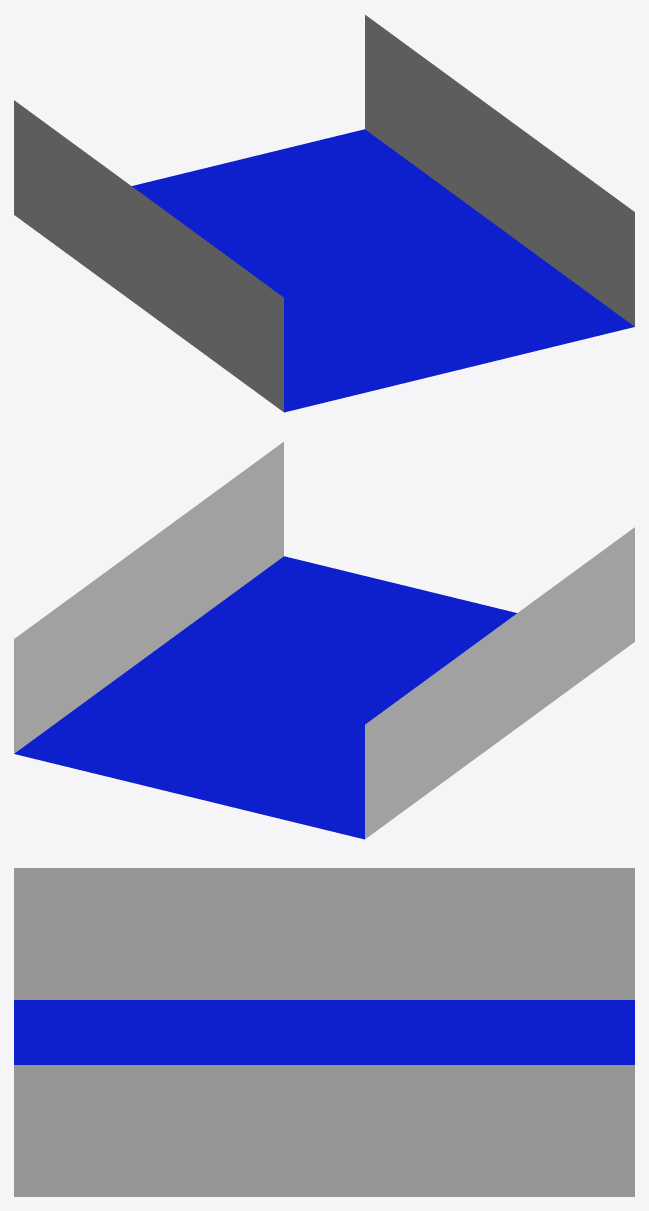
Rendered from route_uv².fbx.
The picture shows the model from 3 angles, top to bottom: view 1: azimuth 30°, elevation 25°; view 2: azimuth 150°, elevation 25°; view 3: azimuth 270°, elevation 25°; orthographic projection. The views are drawn at different scales.
Parts seen in each view (by area): view 1: Plane; view 2: Plane; view 3: Plane.
Boxes of the visible parts, x1,y1,x2,y2 form: Plane: [14, 15, 634, 412]; Plane: [14, 442, 634, 839]; Plane: [14, 868, 634, 1196].
Bounding box in the file's own units: 150 × 46.88 × 200.
